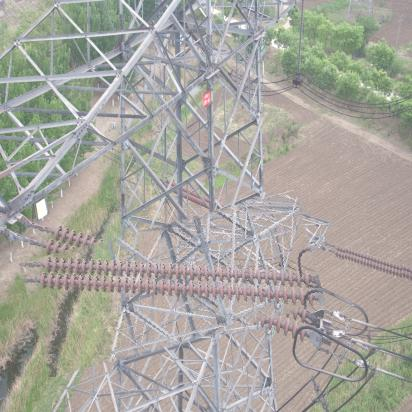insulator: (26, 208, 322, 362), (337, 245, 412, 283)
